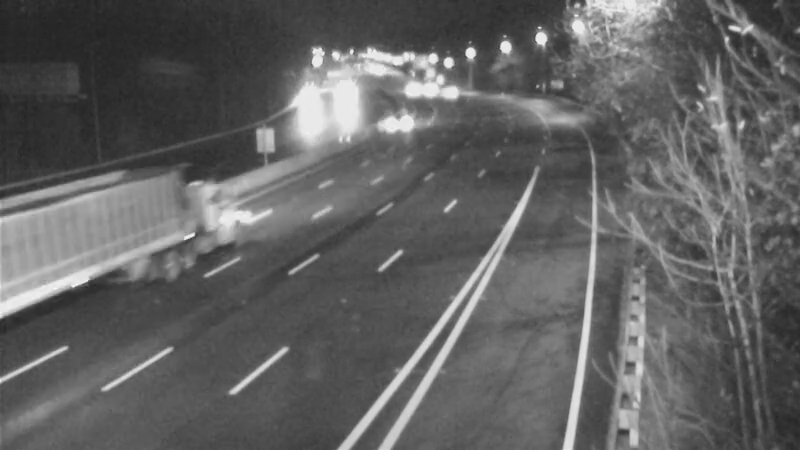vehicle: (54, 185, 134, 265), (421, 66, 471, 116), (386, 62, 436, 112), (372, 91, 422, 141), (317, 74, 367, 124)
